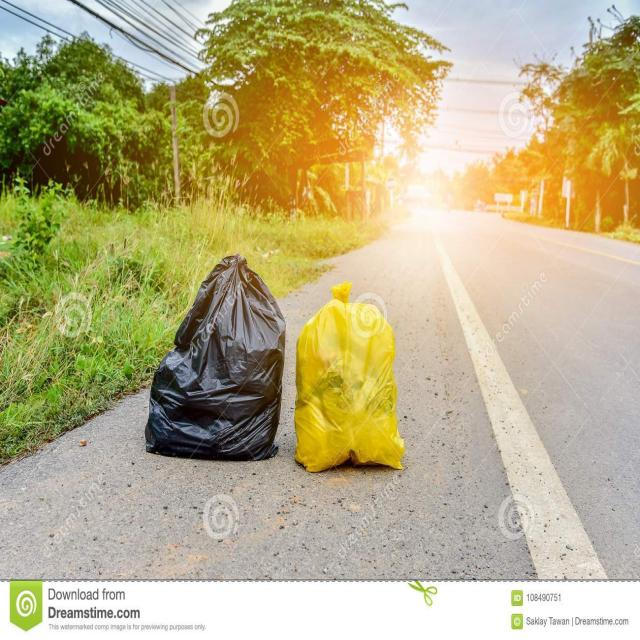plastic_bag: (137, 254, 285, 461), (295, 296, 411, 466)
